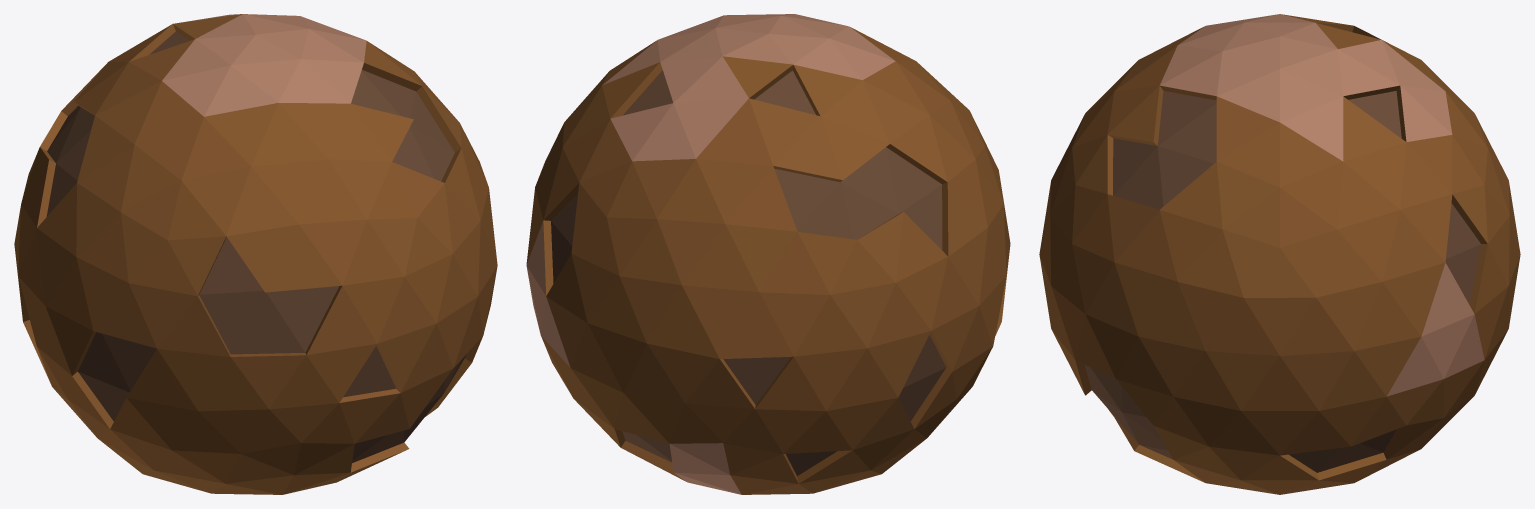
File: ganymede.glb
3 views of the same model, side by side, from view 1: azimuth 30°, elevation 25°; view 2: azimuth 150°, elevation 25°; view 3: azimuth 270°, elevation 25° (orthographic).
Visible parts, largest first — view 1: Icosphere; view 2: Icosphere; view 3: Icosphere.
Part boxes in pixels (bbox=[...]): Icosphere: bbox=[14, 14, 497, 494]; Icosphere: bbox=[526, 14, 1010, 494]; Icosphere: bbox=[1039, 14, 1520, 494].
Bounding box in the file's own units: 0.5268 × 0.5222 × 0.5268.
